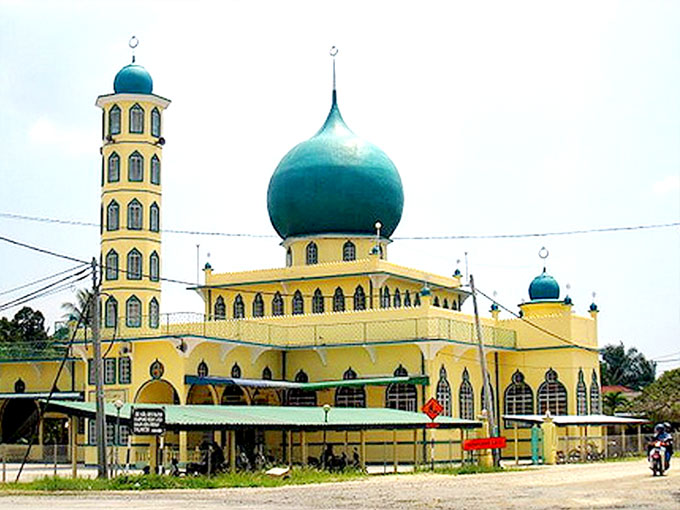Mosque: (86, 33, 600, 437)
